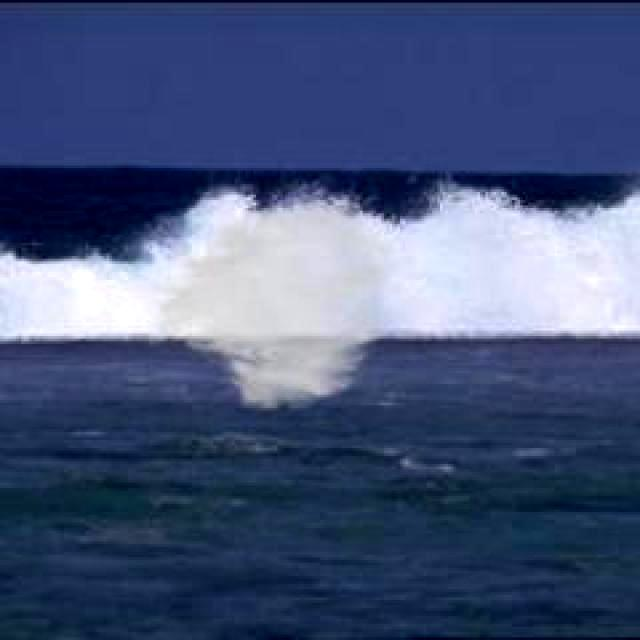no_helmet: (138, 196, 400, 415)
